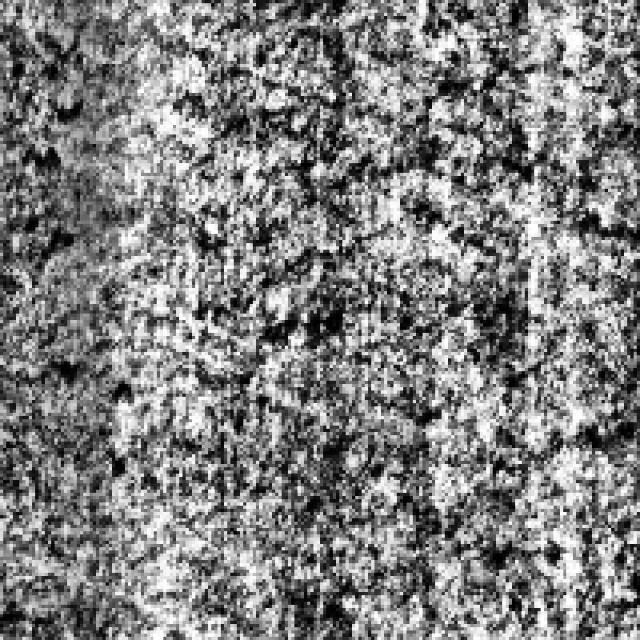Pitted_Surface: (182, 13, 493, 333)
